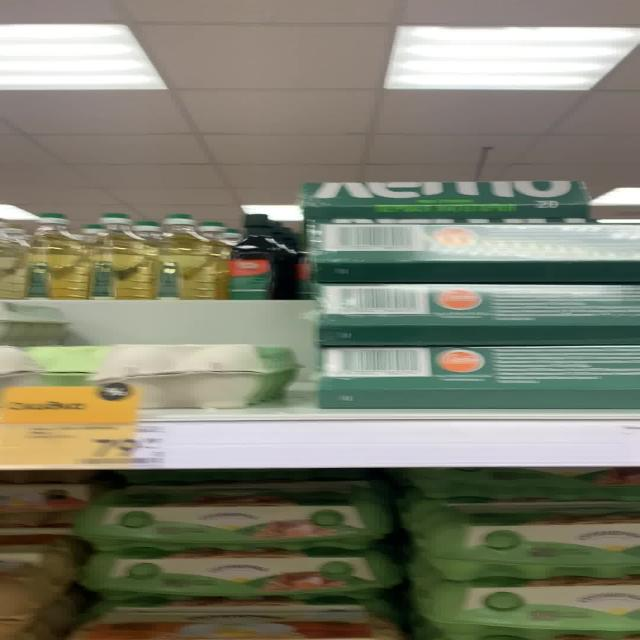egg box: (62, 486, 400, 554), (68, 545, 400, 602), (225, 211, 295, 298), (96, 212, 160, 299), (31, 212, 92, 301), (163, 213, 220, 298)
